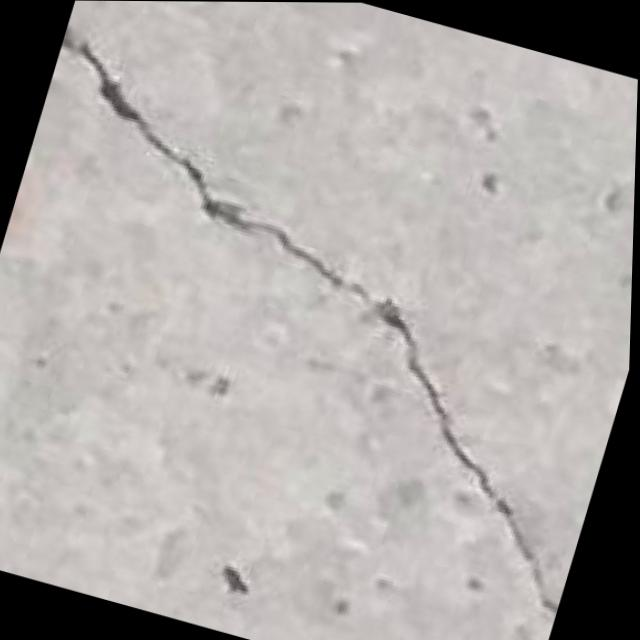Crack: (0, 12, 640, 629)
